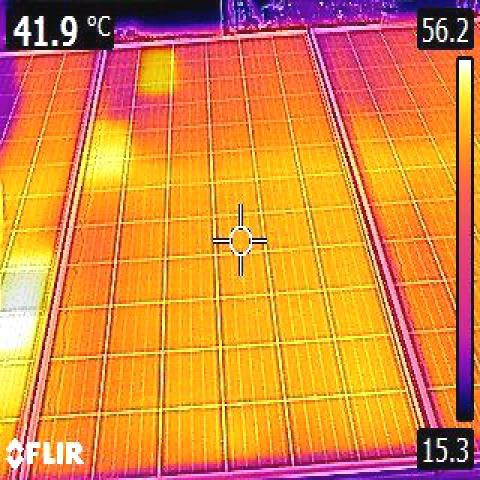fault: (1, 273, 48, 312), (94, 122, 124, 182), (0, 314, 38, 361), (139, 48, 169, 93)
